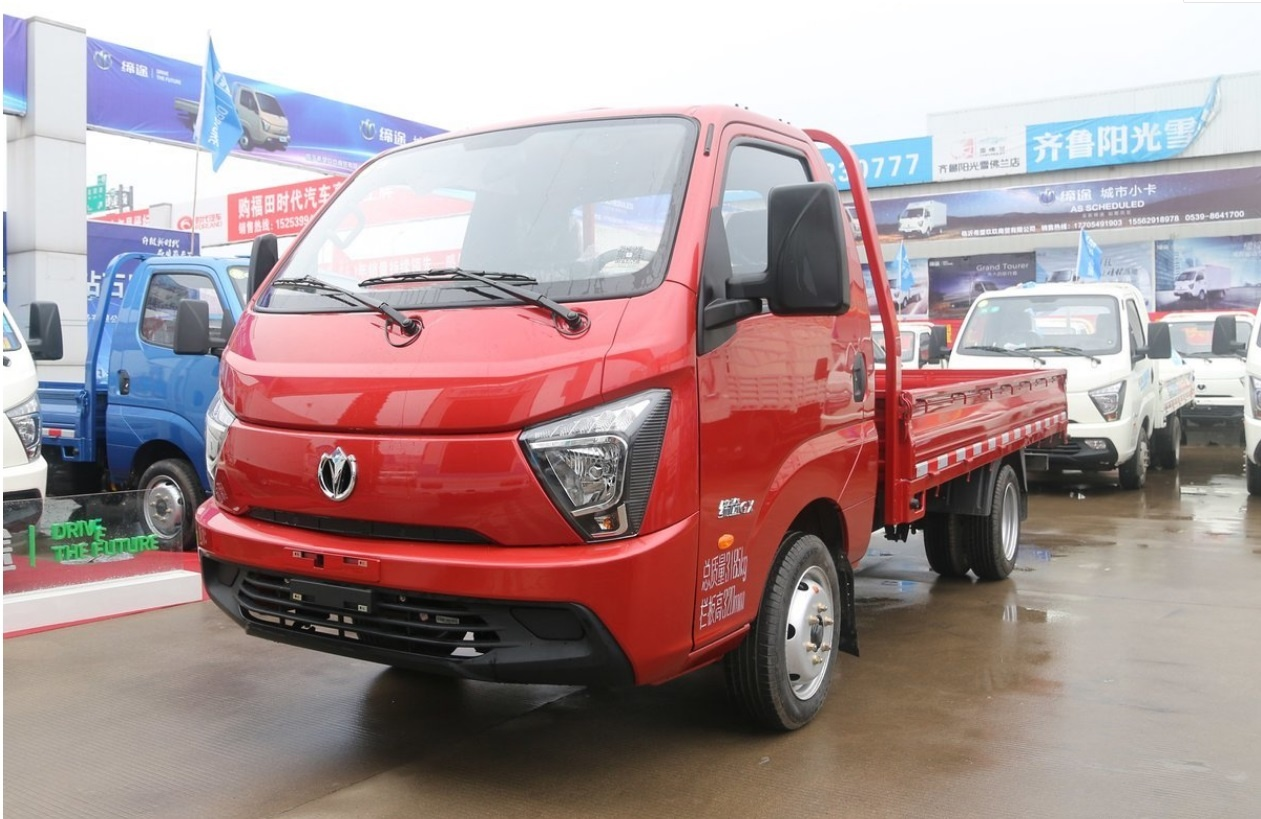truck: (183, 94, 1067, 724)
